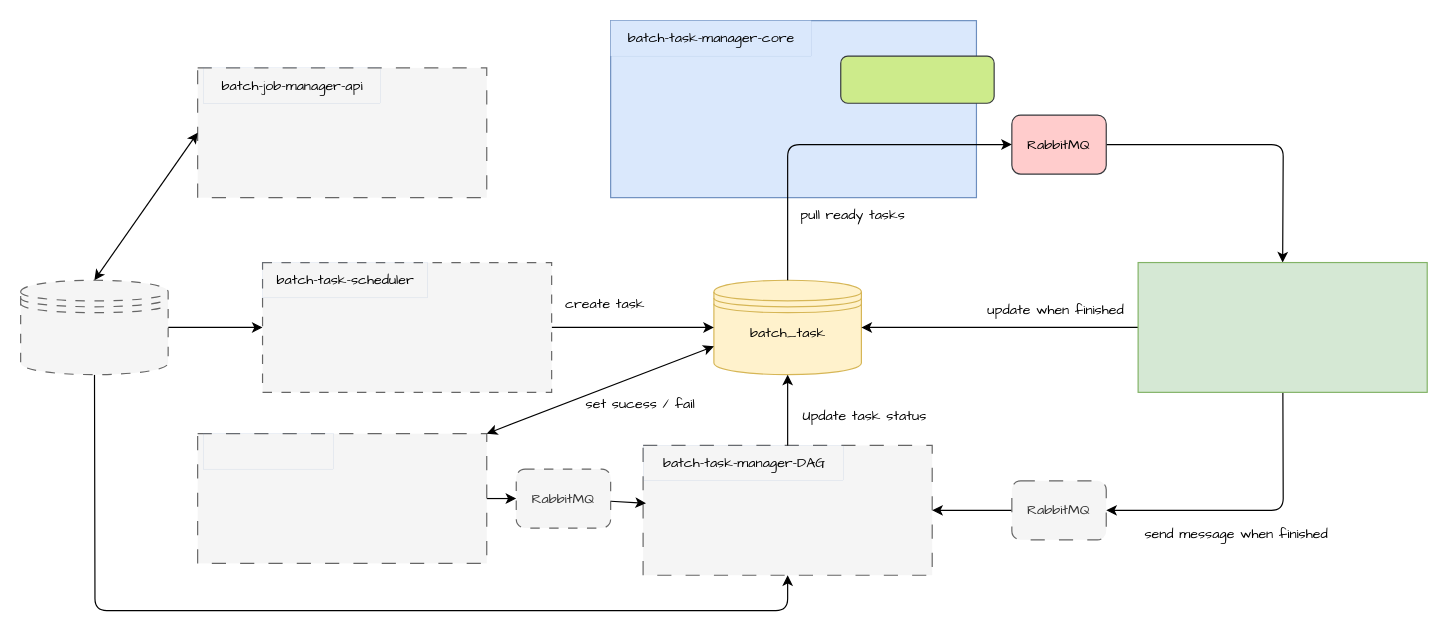
Some shapes in this 1448 by 641 pixel diagram are drawn without their labels. Each missing label, with the box of its shape:
batch-task-api: (203, 433, 333, 468)
batch_job: (19, 279, 168, 375)
Heart beat api: (840, 55, 994, 103)
Worker: (1137, 261, 1427, 392)
